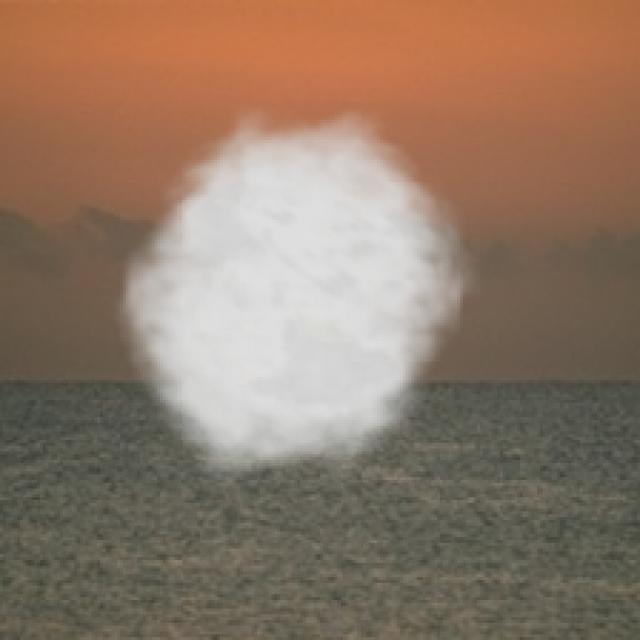smoke: (108, 106, 483, 491)
